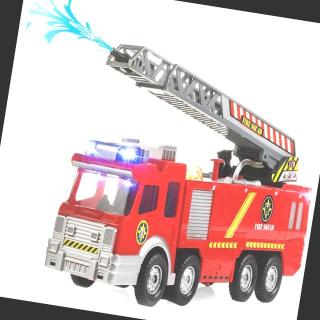Fire_truck: (39, 35, 320, 320)
